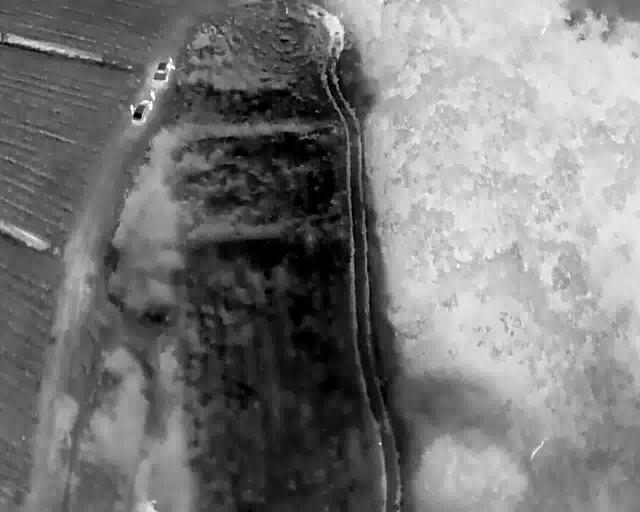car: (131, 99, 153, 124), (152, 61, 175, 83)
person: (149, 89, 155, 101), (168, 55, 173, 65), (129, 103, 133, 114)
